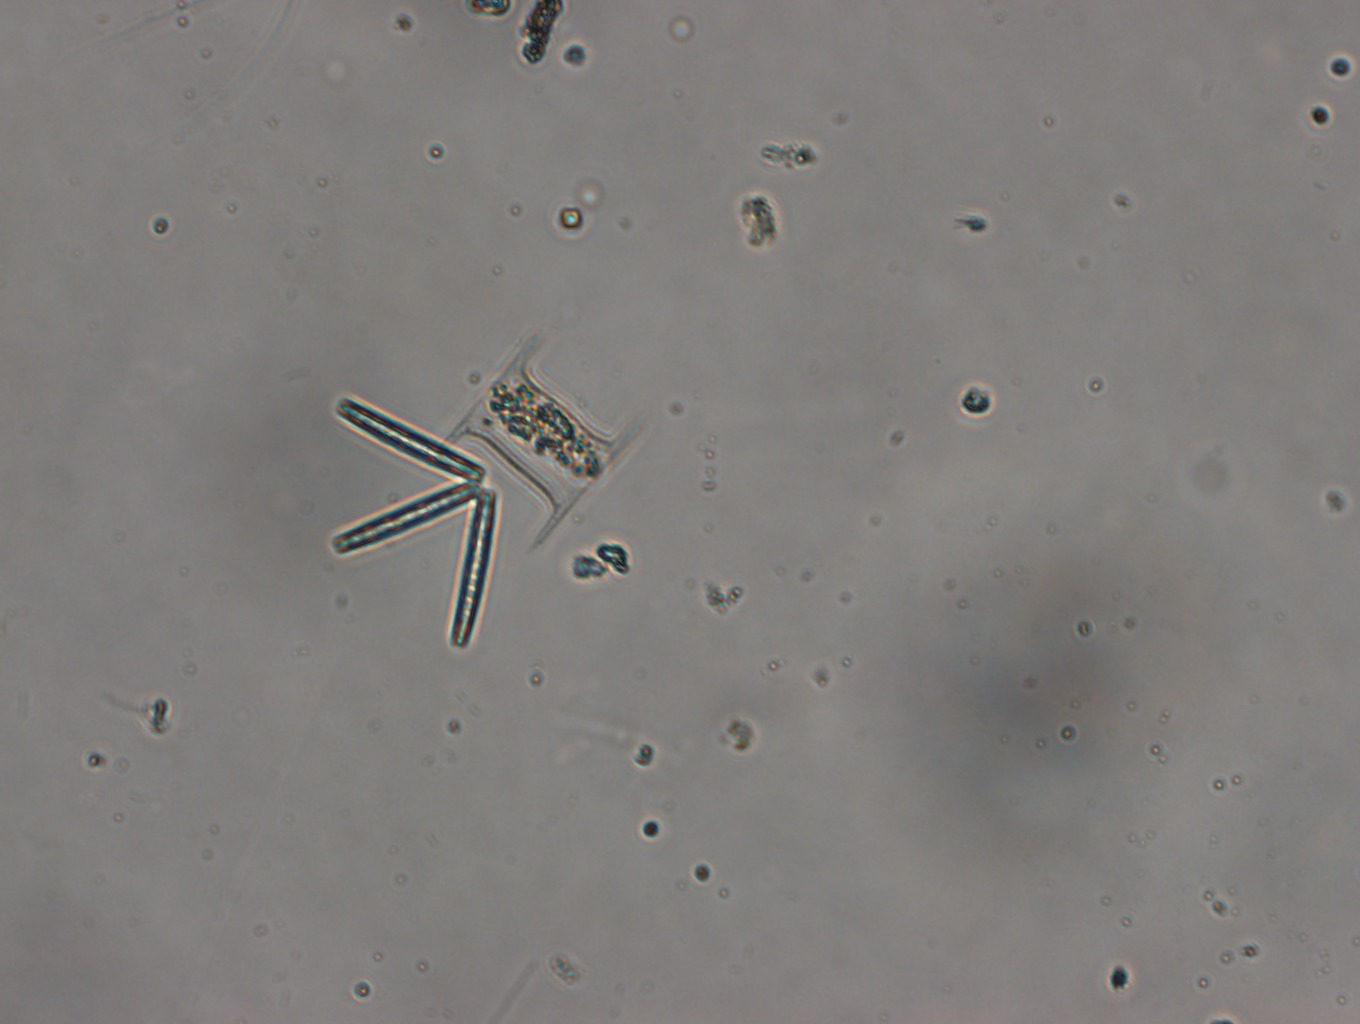eucampia: (440, 335, 656, 547)
thalassionema nitzschioides: (329, 387, 502, 649)
